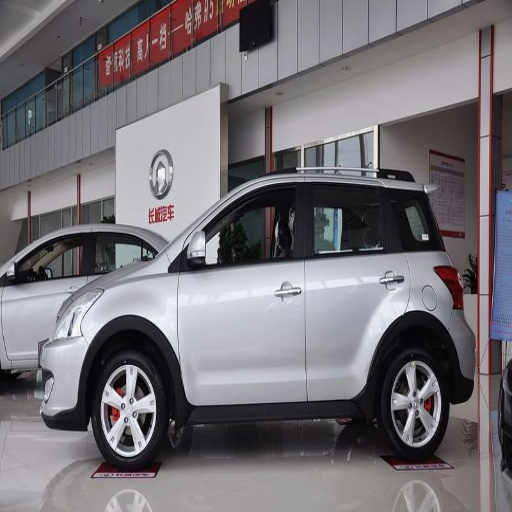back_left_door: (308, 181, 408, 399)
front_left_door: (178, 180, 305, 402)
